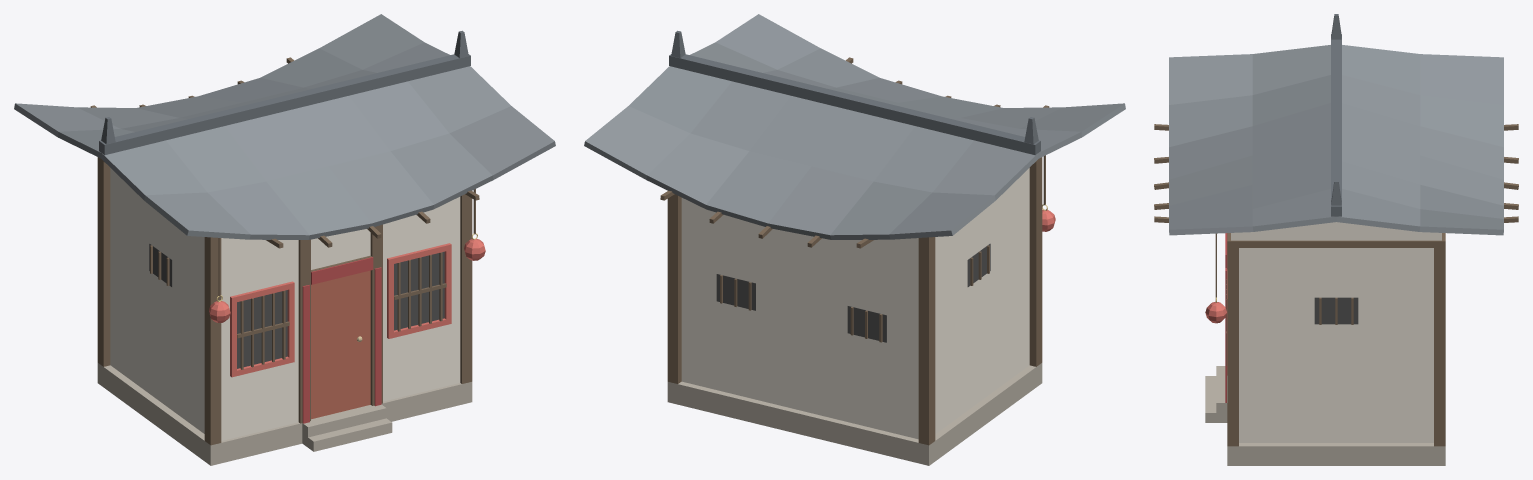
Rendered from Housing_EastAsia_01.fbx.
The picture shows the model from 3 angles, left to right: view 1: azimuth 30°, elevation 25°; view 2: azimuth 150°, elevation 25°; view 3: azimuth 270°, elevation 25°; orthographic projection. The views are drawn at different scales.
Parts seen in each view (by area): view 1: Housing_EastAsia_01_Mesh; view 2: Housing_EastAsia_01_Mesh; view 3: Housing_EastAsia_01_Mesh.
Part boxes in pixels (<box>): Housing_EastAsia_01_Mesh: <box>14,14,555,465</box>; Housing_EastAsia_01_Mesh: <box>584,14,1125,465</box>; Housing_EastAsia_01_Mesh: <box>1154,14,1518,465</box>.
Size of the model in its own units: 5.64 by 4.64 by 5.01.
